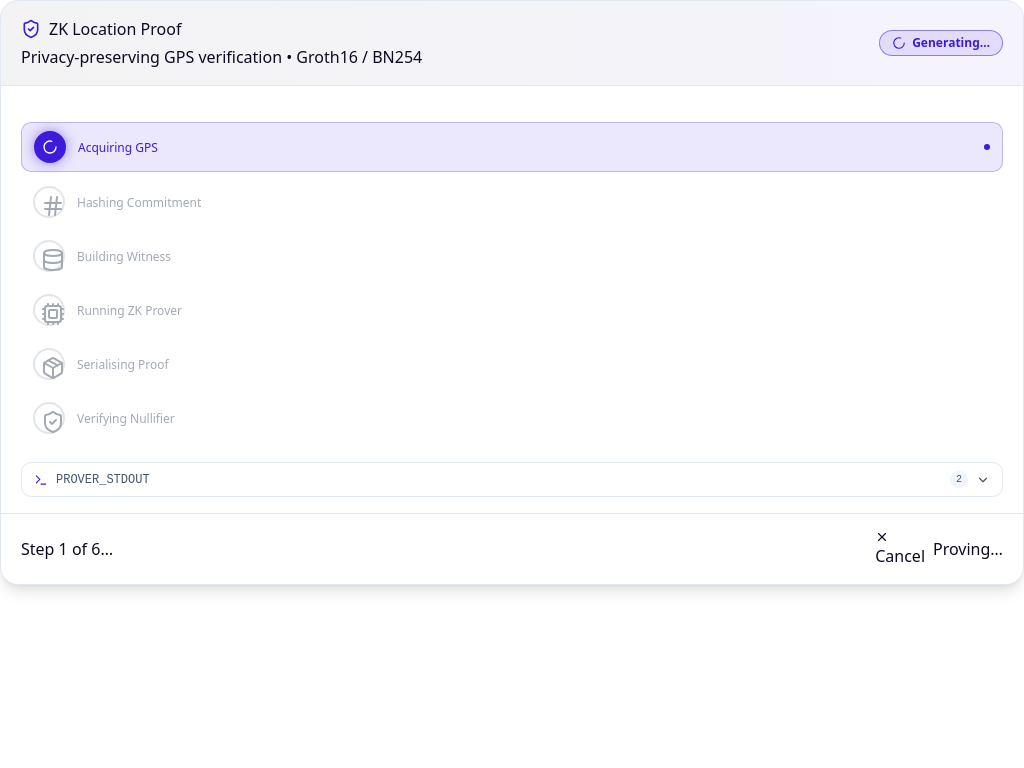
ZKProofLoader — log console › collapses log console on second click
Click the button "PROVER_STDOUT 2": (103, 480) [21,462,1003,497]
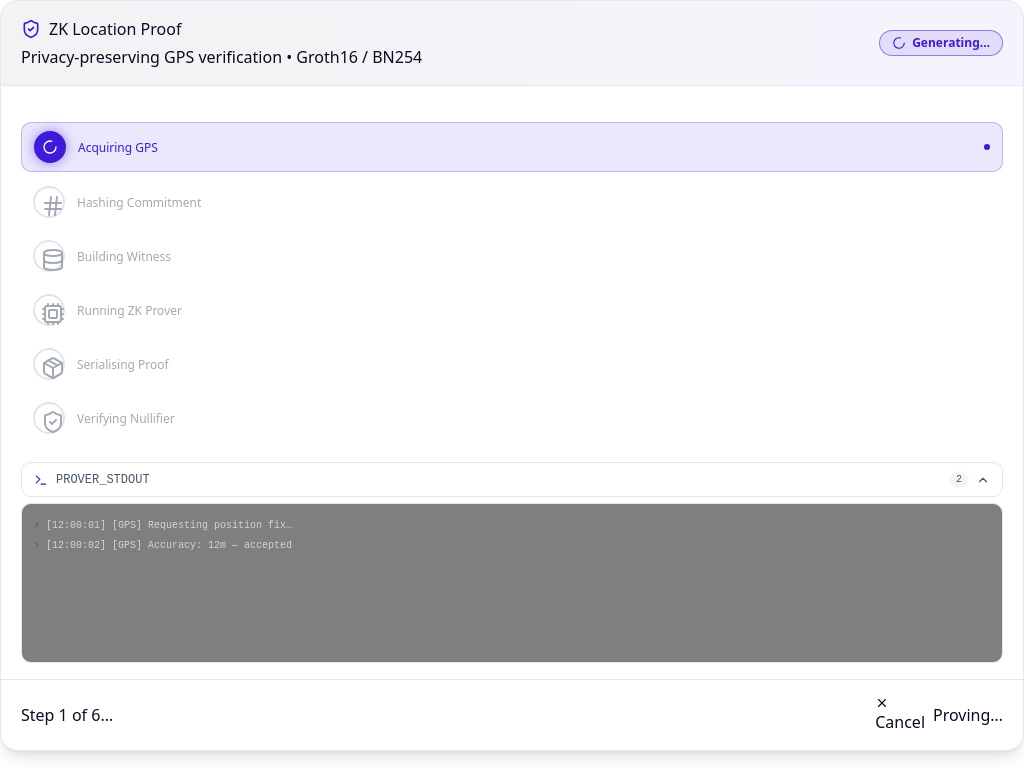
Click the button "PROVER_STDOUT 2": (103, 480) [21,462,1003,497]
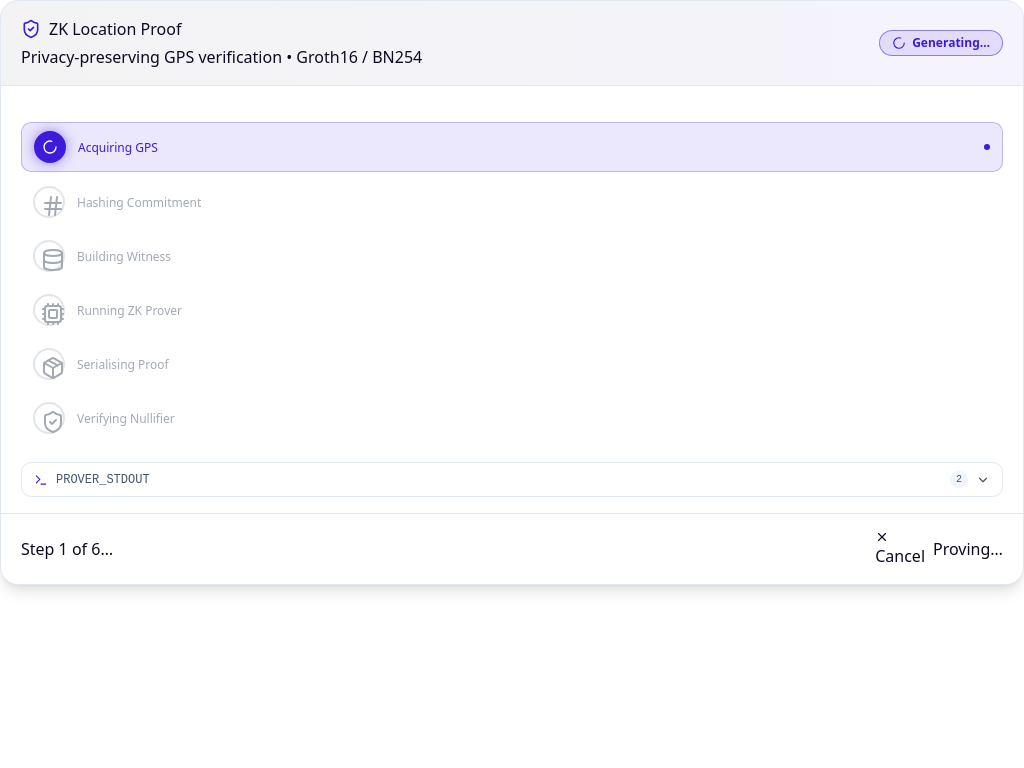
Result: the button "PROVER_STDOUT 2" is collapsed at [21,462,1003,497]
